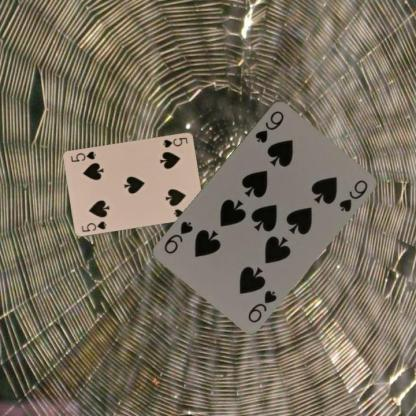5s: (79, 218, 108, 233), (161, 134, 189, 148)
9s: (252, 107, 285, 144), (245, 287, 278, 324)
